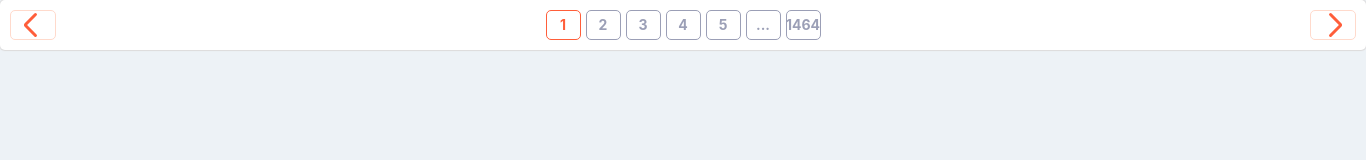
Pagination › Click on the right space(...) changes link set to the higher one
The width and height of the screenshot is (1366, 160).
Expected: the text "1" is shown 5 times, [560,17,566,33]; [599,17,607,33]; [638,17,648,33]; [678,17,688,33]; [719,17,727,33]
What coordinates should you click on to do the following:
click the text "..."
I would click on:
 (763, 25)
Its box is [756,17,770,33].
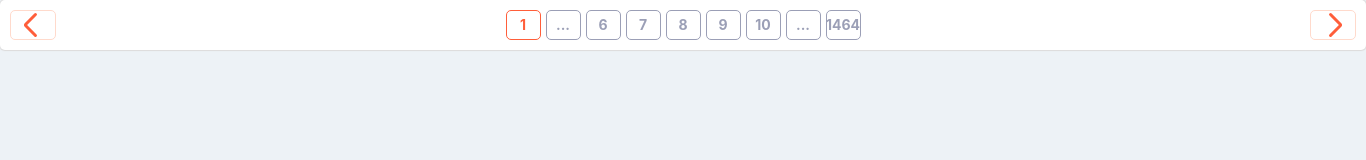
Result: the text "6" is shown 5 times at [598,17,608,33]; [639,17,647,33]; [678,17,688,33]; [718,17,728,33]; [755,17,771,33]
